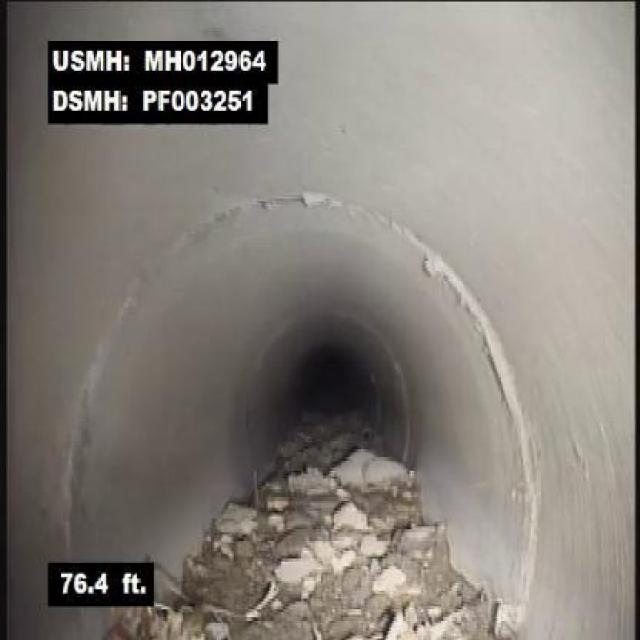Debris: (179, 508, 503, 638)
